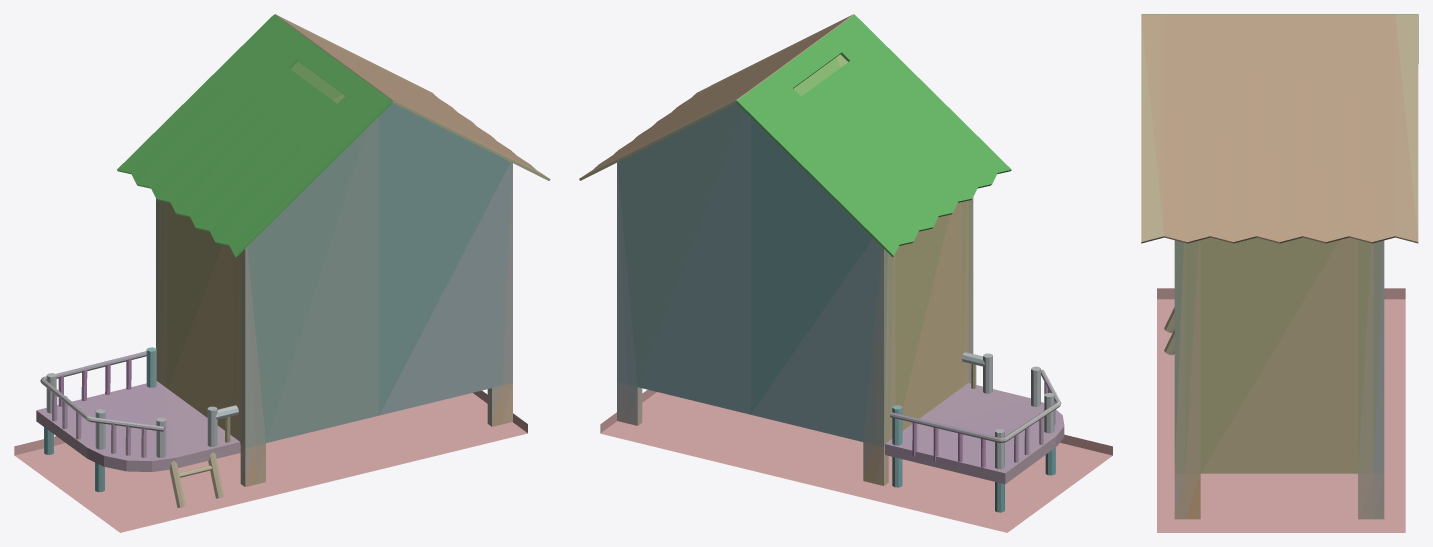
3 renders of one model, left to right at view 1: azimuth 30°, elevation 25°; view 2: azimuth 150°, elevation 25°; view 3: azimuth 270°, elevation 25°, orthographic. The views are drawn at different scales.
Visible parts, largest first — view 1: world; view 2: world; view 3: world.
Part boxes in pixels (box(x1,y1,x2,y2)): world: box(14, 14, 550, 532); world: box(579, 14, 1112, 532); world: box(1141, 14, 1418, 532).
Size of the model in its own units: 1.8 by 1.51 by 0.8696.
